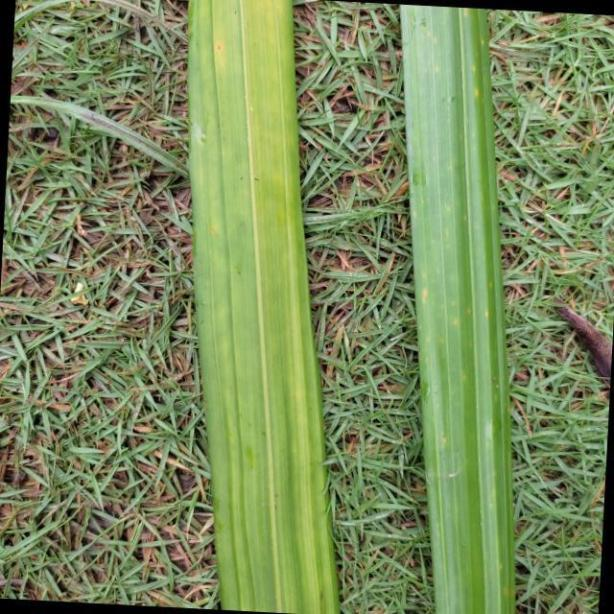nitrogen: (186, 0, 340, 614), (393, 0, 518, 614)
